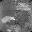people: (1, 16, 15, 24)
